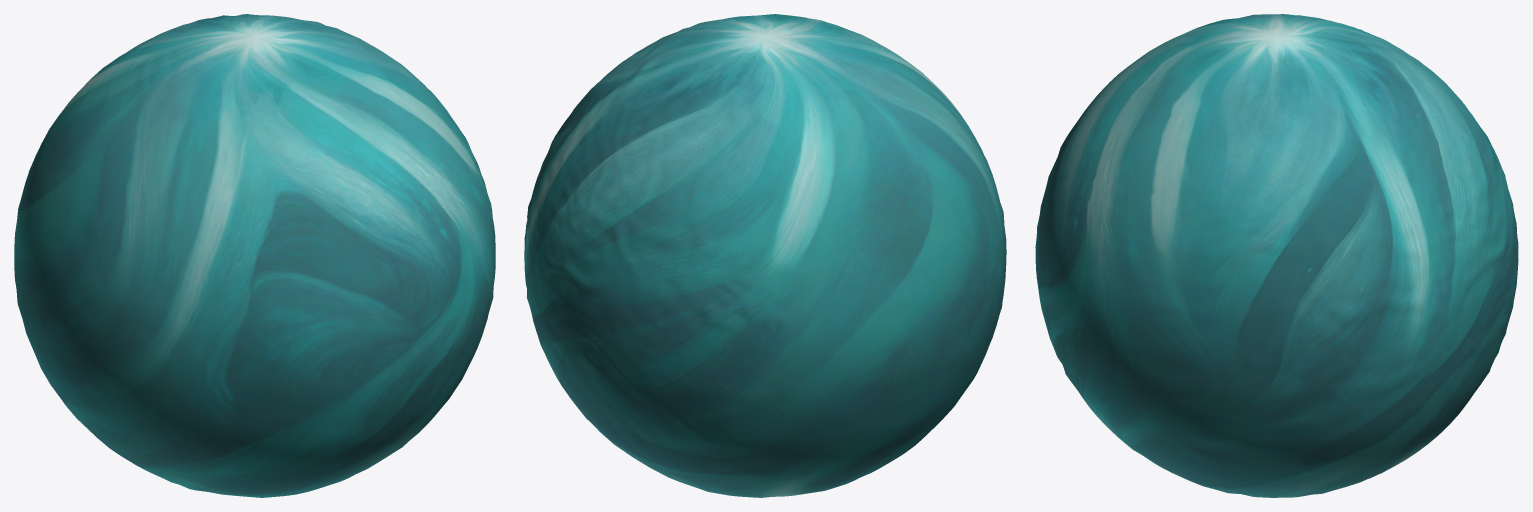
File: CelestialBallProjectile.fbx
The picture shows the model from 3 angles, left to right: view 1: azimuth 30°, elevation 25°; view 2: azimuth 150°, elevation 25°; view 3: azimuth 270°, elevation 25°; orthographic projection.
Parts seen in each view (by area): view 1: input; view 2: input; view 3: input.
Part boxes in pixels (box(x1,y1,x2,y2)): input: box(14, 14, 495, 497); input: box(524, 14, 1006, 497); input: box(1035, 14, 1518, 497).
Size of the model in its own units: 191 by 191 by 191.
Materials: 1 (1 with a texture image).
